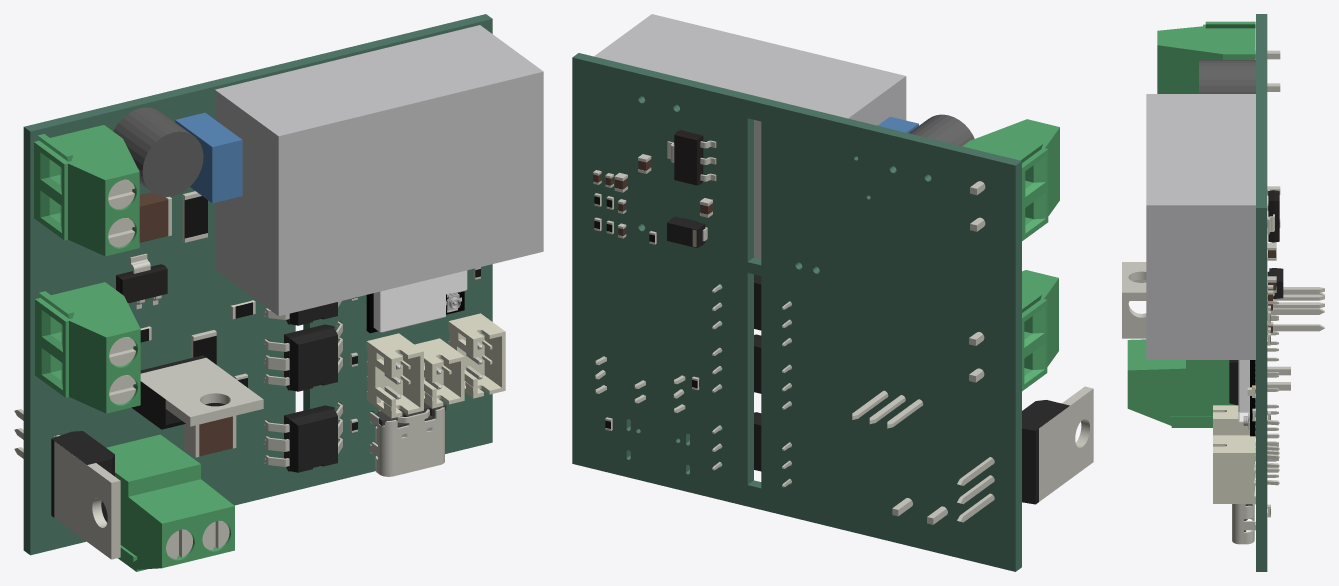
File: board.glb
The picture shows the model from 3 angles, left to right: view 1: azimuth 30°, elevation 25°; view 2: azimuth 150°, elevation 25°; view 3: azimuth 270°, elevation 25°; orthographic projection. The views are drawn at different scales.
Parts seen in each view (by area): view 1: PS1, =>[0:1:1:36], =>[0:1:1:17]_098e5d, =>[0:1:1:19]_1_23e1c4, =>[0:1:1:19]_e6e4b4, =>[0:1:1:15]_d7e9bc, F1, =>[0:1:1:15]_1_cc188d, =>[0:1:1:21]_1_04b180, =>[0:1:1:11]_2381df, RV1, =>[0:1:1:27]_bcd3e3 (+17 smaller); view 2: =>[0:1:1:36], PS1, =>[0:1:1:15]_d7e9bc, =>[0:1:1:19]_e6e4b4, =>[0:1:1:19]_1_23e1c4, =>[0:1:1:15]_b68e94, =>[0:1:1:29]_1_fe92e4, F1, =>[0:1:1:15]_1_cc188d, =>[0:1:1:35]_ae518a; view 3: PS1, =>[0:1:1:36], =>[0:1:1:17]_098e5d, =>[0:1:1:19]_e6e4b4, =>[0:1:1:21]_cc89ae, F1, =>[0:1:1:15]_1_cc188d, =>[0:1:1:15]_d7e9bc, =>[0:1:1:11]_2381df, =>[0:1:1:21]_1_04b180, =>[0:1:1:27]_bcd3e3, =>[0:1:1:29]_1_fe92e4 (+5 smaller).
Part boxes in pixels (left/top/right/bottom): PS1: left=215, top=25, right=543, bottom=316; =>[0:1:1:36]: left=23, top=14, right=492, bottom=555; =>[0:1:1:17]_098e5d: left=106, top=434, right=234, bottom=571; =>[0:1:1:19]_1_23e1c4: left=35, top=282, right=140, bottom=413; =>[0:1:1:19]_e6e4b4: left=34, top=125, right=139, bottom=256; =>[0:1:1:15]_d7e9bc: left=14, top=409, right=120, bottom=559; F1: left=113, top=107, right=203, bottom=196; =>[0:1:1:15]_1_cc188d: left=140, top=357, right=263, bottom=426; =>[0:1:1:21]_1_04b180: left=366, top=333, right=423, bottom=418; =>[0:1:1:11]_2381df: left=370, top=407, right=444, bottom=476; RV1: left=175, top=112, right=242, bottom=203; =>[0:1:1:27]_bcd3e3: left=373, top=270, right=467, bottom=332; =>[0:1:1:36]: left=572, top=53, right=1021, bottom=571; PS1: left=594, top=14, right=906, bottom=258; =>[0:1:1:15]_d7e9bc: left=957, top=386, right=1093, bottom=522; =>[0:1:1:19]_e6e4b4: left=962, top=119, right=1059, bottom=240; =>[0:1:1:19]_1_23e1c4: left=1022, top=270, right=1058, bottom=391; =>[0:1:1:15]_b68e94: left=1022, top=400, right=1069, bottom=504; =>[0:1:1:29]_1_fe92e4: left=674, top=130, right=703, bottom=185; F1: left=909, top=114, right=974, bottom=146; =>[0:1:1:15]_1_cc188d: left=852, top=390, right=923, bottom=428; =>[0:1:1:35]_ae518a: left=667, top=216, right=705, bottom=247; PS1: left=1146, top=94, right=1255, bottom=359; =>[0:1:1:36]: left=1256, top=14, right=1267, bottom=571; =>[0:1:1:17]_098e5d: left=1127, top=339, right=1235, bottom=427; =>[0:1:1:19]_e6e4b4: left=1157, top=21, right=1255, bottom=93; =>[0:1:1:21]_cc89ae: left=1213, top=439, right=1255, bottom=503; F1: left=1199, top=60, right=1255, bottom=93; =>[0:1:1:15]_1_cc188d: left=1122, top=262, right=1324, bottom=308; =>[0:1:1:15]_d7e9bc: left=1122, top=280, right=1324, bottom=338; =>[0:1:1:11]_2381df: left=1232, top=473, right=1255, bottom=544; =>[0:1:1:21]_1_04b180: left=1213, top=405, right=1249, bottom=435; =>[0:1:1:27]_bcd3e3: left=1238, top=360, right=1249, bottom=422; =>[0:1:1:29]_1_fe92e4: left=1268, top=190, right=1279, bottom=242.
Size of the model in its own units: 64.5 by 56.5 by 28.52.
